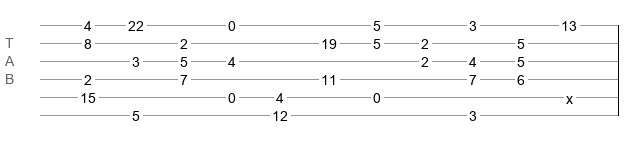0: (228, 90, 236, 100), (228, 18, 236, 28), (373, 90, 381, 100)
11: (321, 72, 337, 82)
12: (272, 108, 288, 118)
13: (561, 18, 577, 28)
15: (80, 90, 96, 100)
19: (321, 36, 337, 46)
2: (84, 72, 92, 82), (180, 36, 188, 46), (421, 54, 429, 64), (421, 36, 429, 46)
22: (128, 18, 144, 28)
3: (132, 54, 140, 64), (469, 18, 477, 28), (469, 108, 477, 118)
4: (84, 18, 92, 28), (228, 54, 236, 64), (276, 90, 284, 100), (469, 54, 477, 64)
5: (132, 108, 140, 118), (180, 54, 188, 64), (373, 18, 381, 28), (373, 36, 381, 46), (517, 54, 525, 64), (517, 36, 525, 46)
6: (517, 72, 525, 82)
7: (180, 72, 188, 82), (469, 72, 477, 82)
8: (84, 36, 92, 46)
x: (566, 91, 573, 99)
